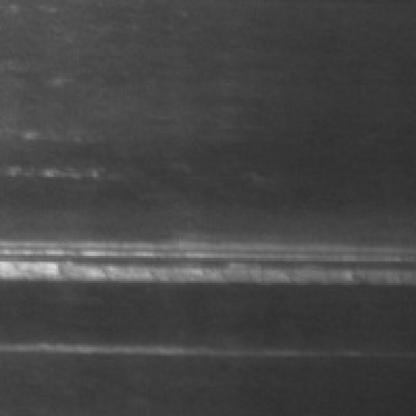scratches: (0, 229, 404, 287), (0, 328, 366, 358)
